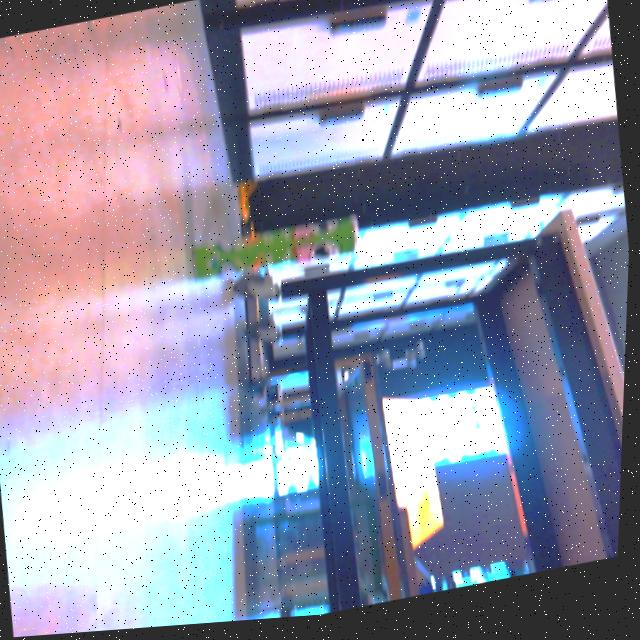greenpringles: (172, 200, 376, 309)
